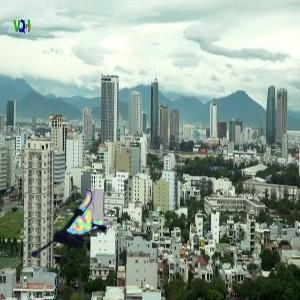drone: (18, 190, 113, 285)
